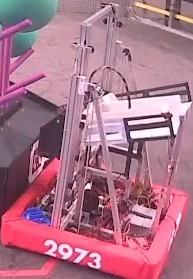red_number: (40, 236, 104, 273)
